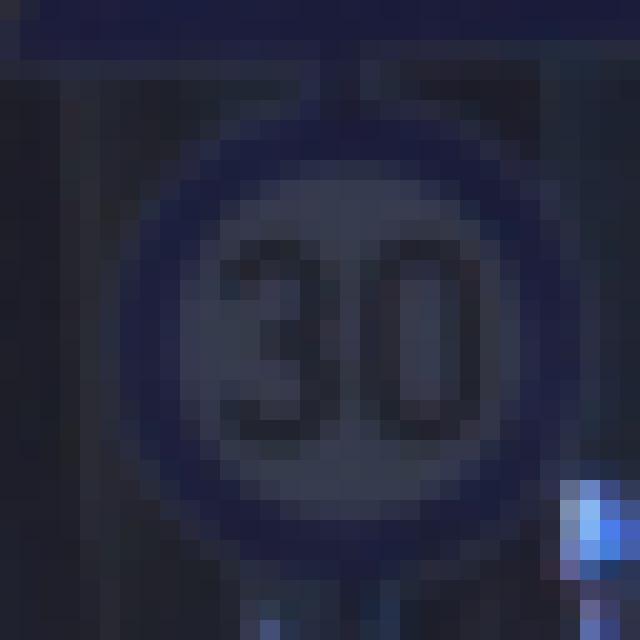SPEED LIMIT 30: (123, 125, 572, 559)
